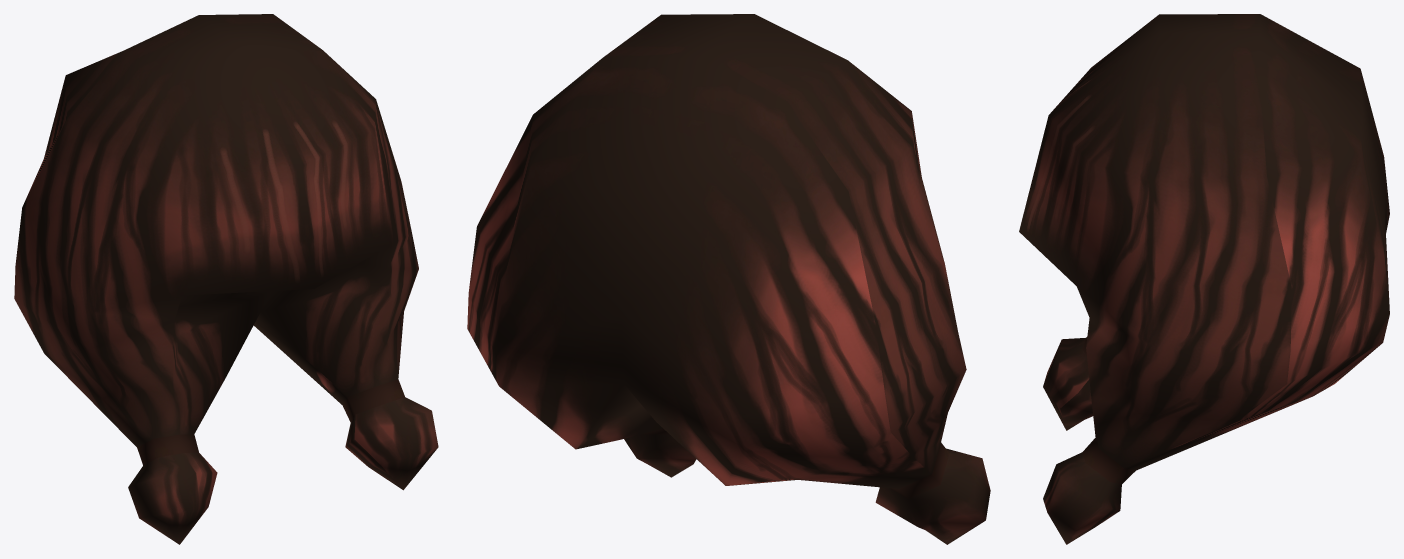
Rendered from character_Head10.FBX.
The picture shows the model from 3 angles, left to right: view 1: azimuth 30°, elevation 25°; view 2: azimuth 150°, elevation 25°; view 3: azimuth 270°, elevation 25°; orthographic projection. The views are drawn at different scales.
Parts seen in each view (by area): view 1: Sphere126; view 2: Sphere126; view 3: Sphere126.
Part boxes in pixels (left/top/right/bottom): Sphere126: left=14, top=14, right=438, bottom=544; Sphere126: left=467, top=14, right=990, bottom=544; Sphere126: left=1019, top=14, right=1389, bottom=544.
Bounding box in the file's own units: 47.2 × 57.26 × 42.32.
